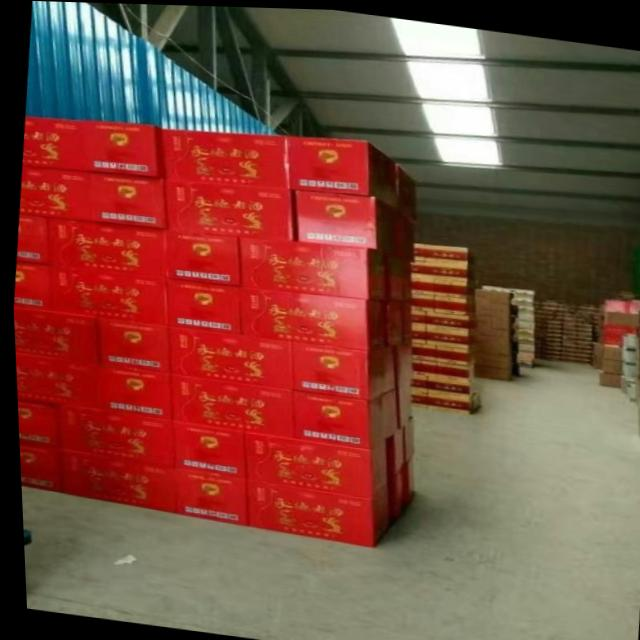box: (241, 475, 386, 545), (240, 429, 385, 496), (239, 232, 385, 298), (238, 284, 383, 347), (164, 176, 294, 238), (164, 324, 290, 387), (168, 372, 291, 436), (286, 133, 394, 204), (161, 127, 285, 185), (56, 448, 172, 510), (45, 216, 164, 276), (55, 405, 169, 465), (51, 265, 163, 324), (291, 186, 394, 250), (287, 339, 393, 397), (291, 388, 396, 445), (78, 119, 163, 176), (80, 171, 164, 227), (11, 306, 94, 362), (12, 353, 94, 407), (163, 227, 240, 284), (169, 465, 243, 524), (161, 277, 239, 332), (91, 363, 168, 418), (168, 419, 241, 474), (95, 316, 164, 371), (17, 166, 81, 219), (20, 116, 79, 170), (14, 399, 56, 448), (15, 443, 57, 492), (11, 260, 51, 309), (14, 214, 48, 264), (421, 308, 474, 332), (383, 299, 410, 344), (422, 241, 473, 264), (424, 390, 478, 411), (382, 466, 403, 518), (392, 210, 414, 259), (394, 166, 415, 217), (386, 251, 409, 297), (430, 273, 471, 296), (424, 328, 474, 346), (425, 374, 471, 393), (432, 341, 471, 362), (433, 293, 473, 313), (430, 260, 471, 279), (392, 343, 409, 388), (383, 427, 400, 472), (432, 359, 471, 378), (394, 384, 411, 426), (470, 361, 508, 378), (471, 349, 508, 366), (399, 415, 412, 460), (472, 298, 506, 313), (472, 338, 507, 352), (400, 459, 411, 501), (409, 339, 432, 359), (409, 356, 433, 375), (475, 325, 507, 339), (410, 272, 432, 292), (409, 291, 432, 308), (595, 368, 618, 384), (410, 258, 431, 273), (409, 306, 423, 328), (408, 388, 424, 406), (600, 341, 618, 357), (599, 355, 618, 370), (513, 317, 532, 332), (488, 287, 508, 301), (510, 284, 533, 296), (408, 372, 424, 389), (488, 313, 507, 327), (515, 303, 531, 318), (508, 294, 531, 304), (512, 329, 531, 341), (514, 340, 531, 353), (513, 352, 530, 365), (472, 285, 487, 299), (474, 312, 489, 326), (411, 240, 422, 259), (410, 327, 423, 341)
